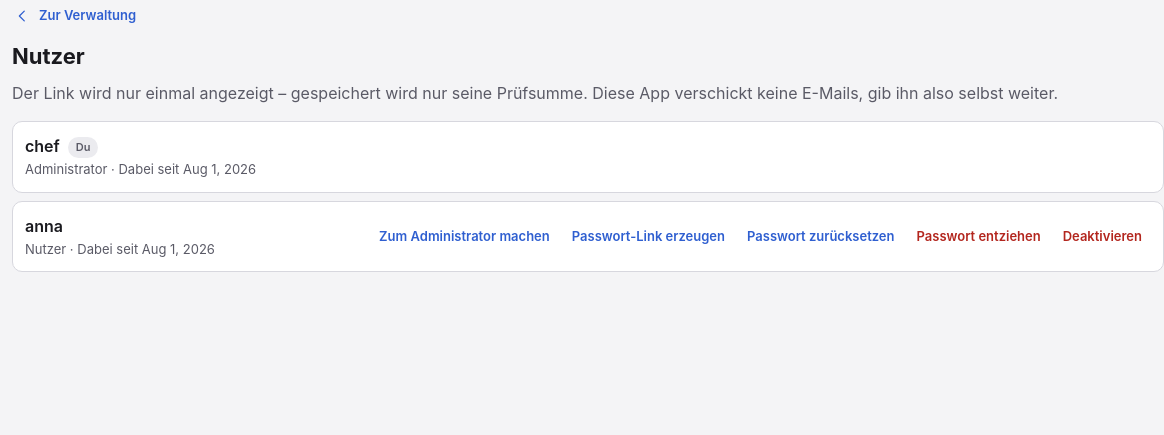
Test case: the administration › sets a new password for another account
Expected: the text "anna" is shown, [25, 216, 63, 236]
Expected: the field labelled "Neues Passwort" is not shown
Click the button "Passwort zurücksetzen" at (821, 236), box [738, 220, 904, 252]
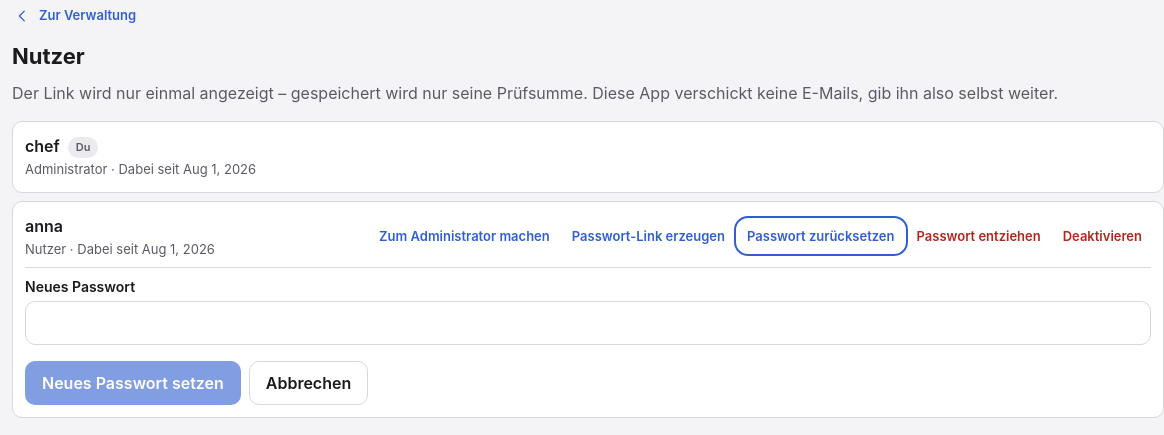
Type "ein-neues-passwort" into the password field labelled "Neues Passwort" at (588, 323), box [25, 301, 1151, 345]
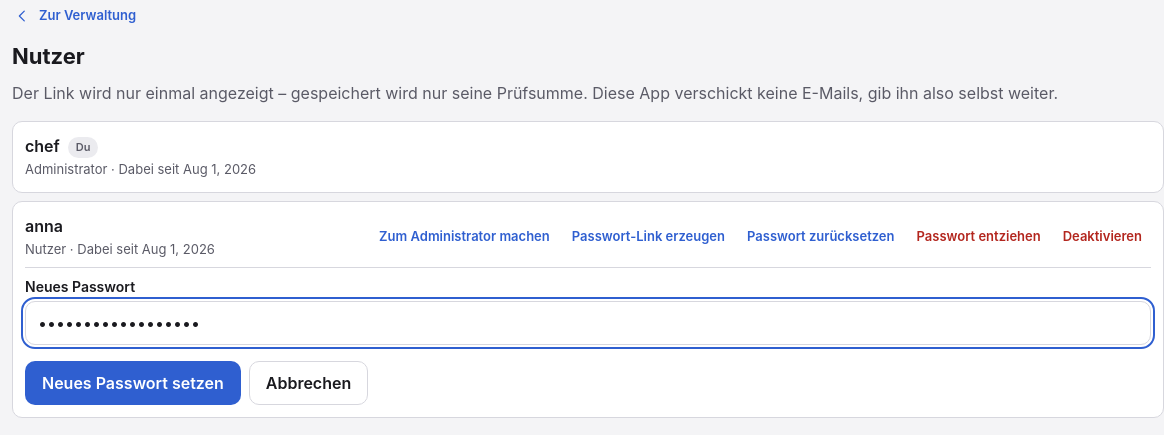
Click the button "Neues Passwort setzen" at (133, 383), box [25, 361, 241, 405]
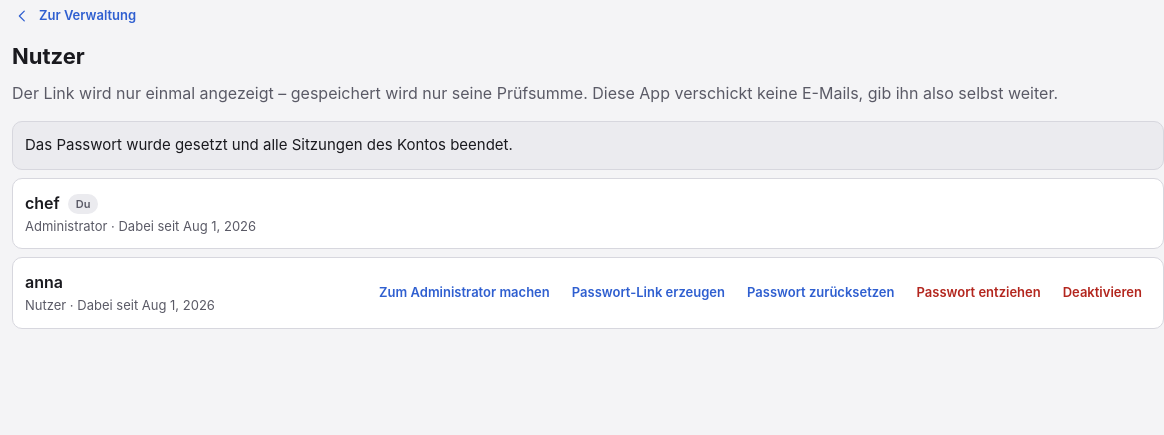
Now the text "Das Passwort wurde gesetzt und alle Sitzungen des Kontos beendet." is shown, box [12, 121, 1163, 170]
